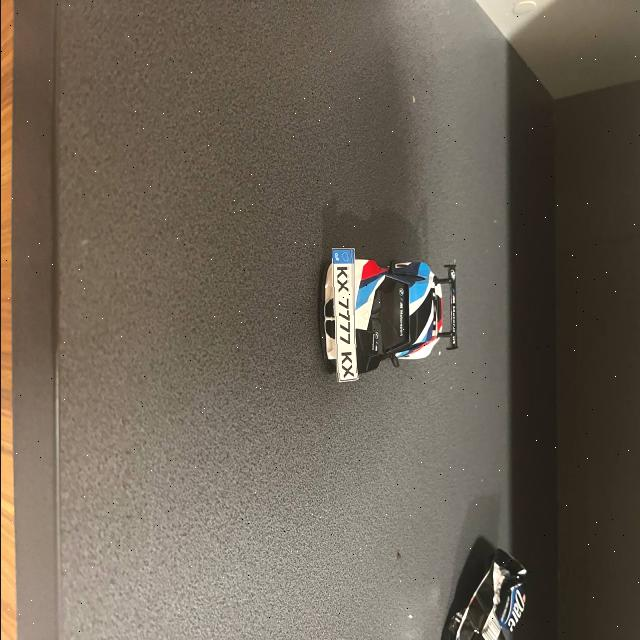KX 7777 KX: (332, 247, 355, 383)
